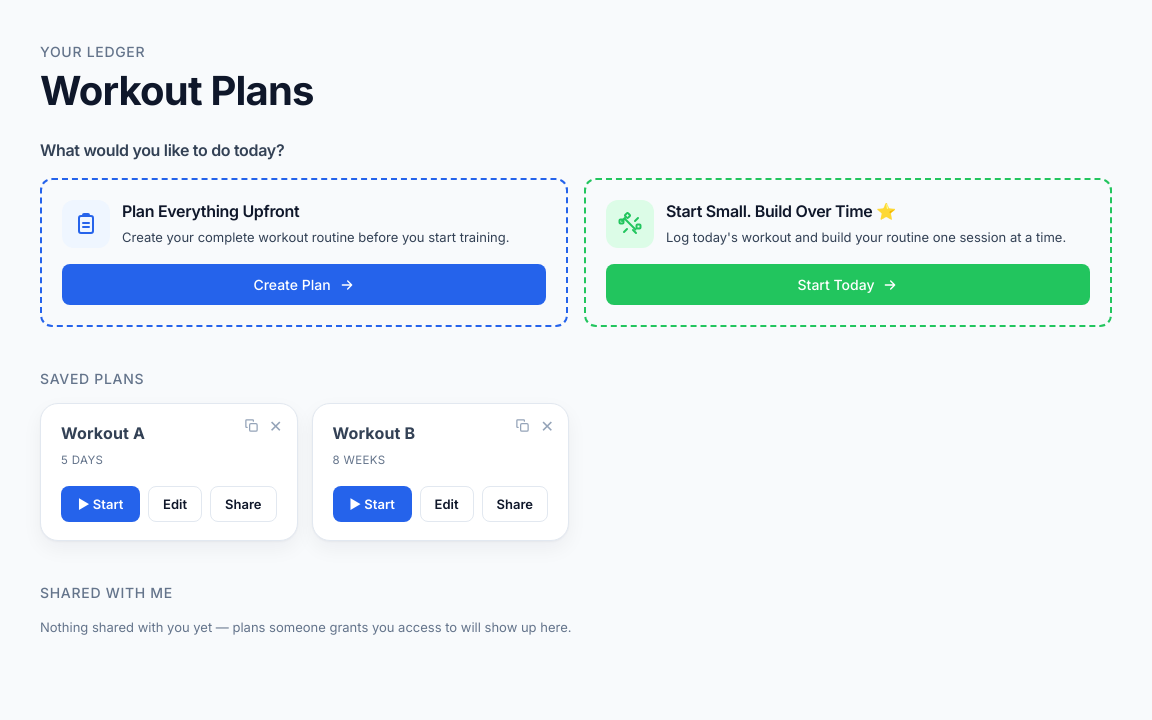
Scenario: PlanList › shows an error banner if duplicating a plan fails
What coordinates should you click on to do the following:
click the 1st button named "Duplicate plan"
I would click on:
 (251, 425)
Its box is x1=240 y1=414 x2=262 y2=437.
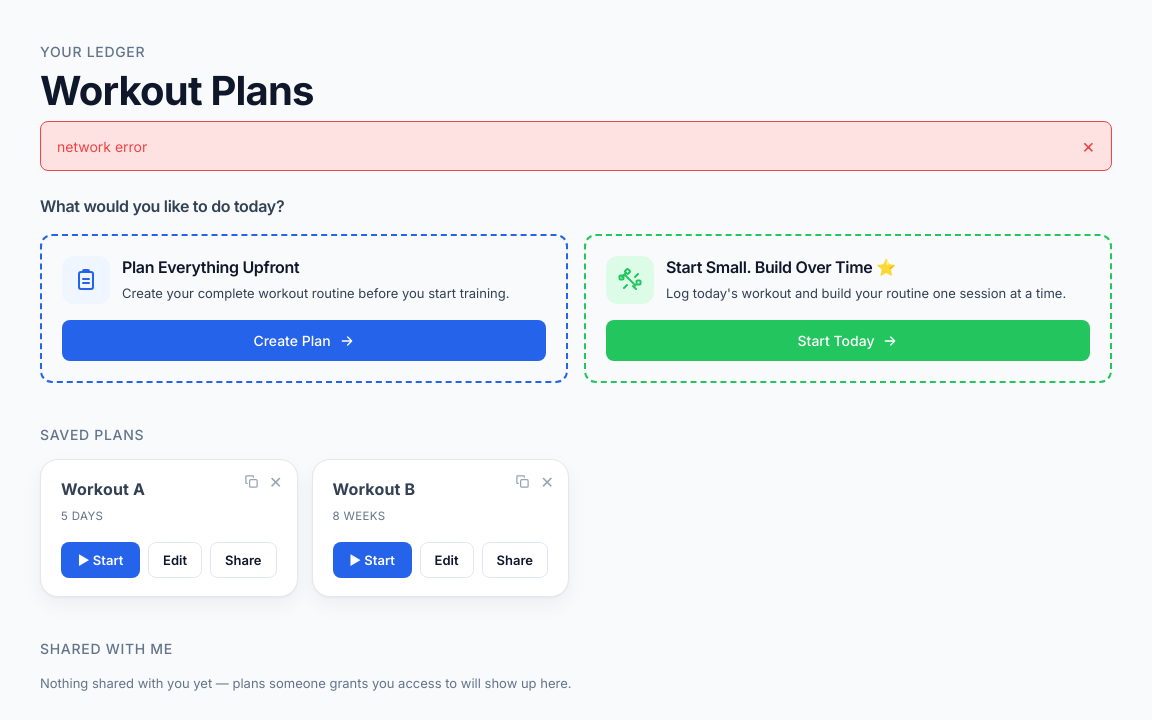
Result: the text "network error" is shown at x1=57 y1=135 x2=147 y2=158
